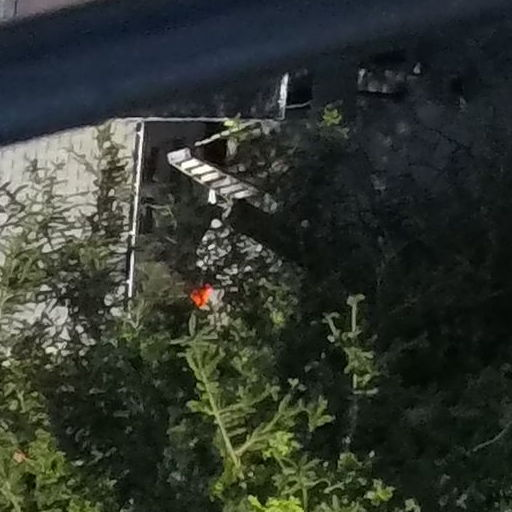bucket: (184, 282, 223, 308)
